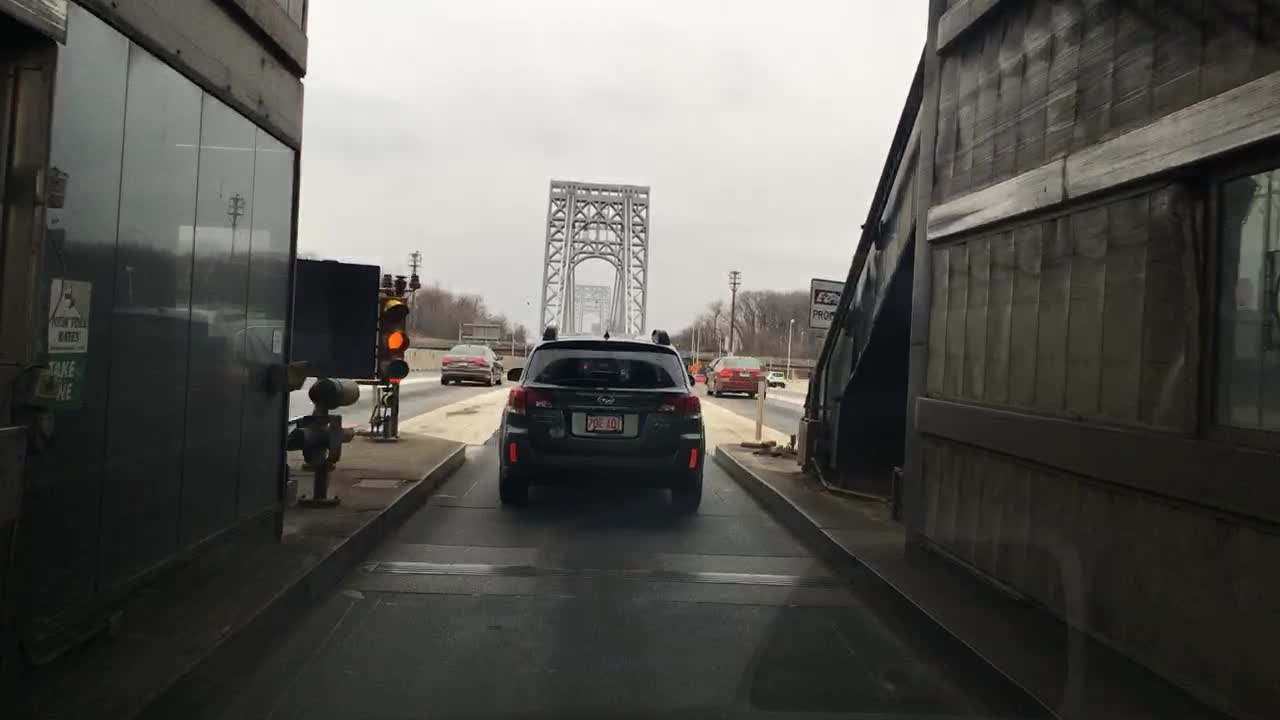car: (495, 320, 708, 515), (441, 341, 506, 393), (697, 355, 767, 399), (767, 369, 788, 388)
traffic light: (384, 296, 408, 385)
traffic sign: (811, 278, 842, 328)
